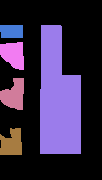parkingspot: (40, 25, 61, 153), (59, 75, 80, 153), (0, 78, 23, 109), (0, 42, 23, 69), (0, 128, 21, 154), (0, 25, 22, 37)
